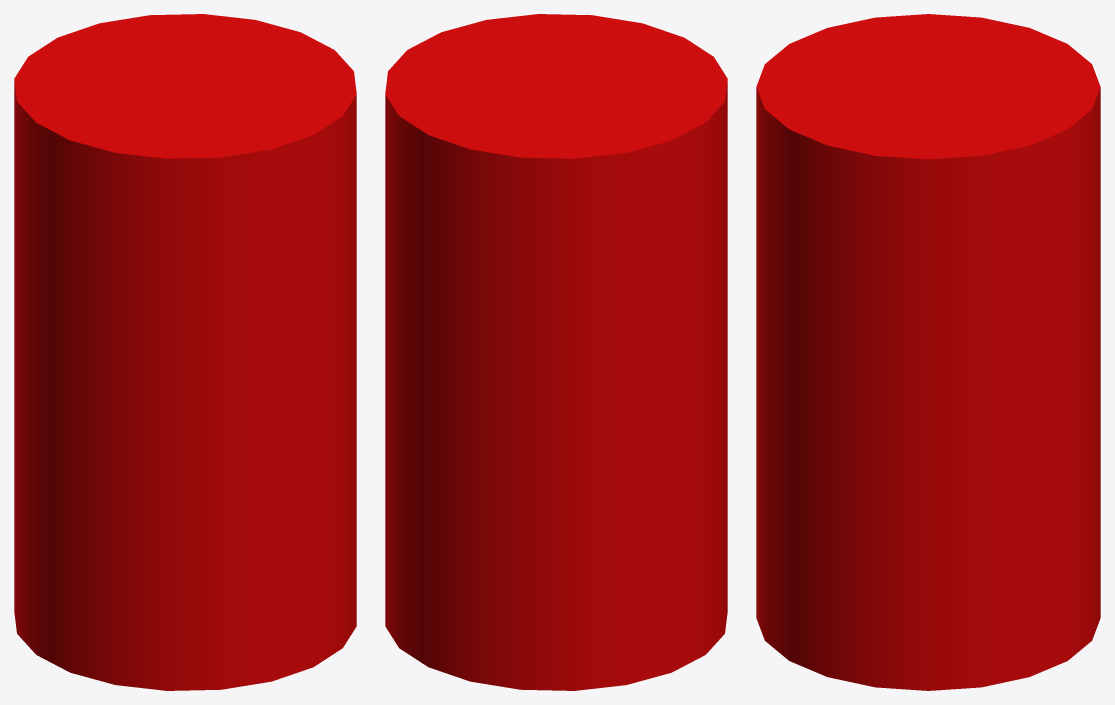
Rendered from Pole.fbx.
The picture shows the model from 3 angles, left to right: view 1: azimuth 30°, elevation 25°; view 2: azimuth 150°, elevation 25°; view 3: azimuth 270°, elevation 25°; orthographic projection.
Visible parts, largest first — view 1: pCylinder2; view 2: pCylinder2; view 3: pCylinder2.
Boxes of the visible parts, bbox=[...] form: pCylinder2: bbox=[14, 14, 356, 690]; pCylinder2: bbox=[385, 14, 727, 690]; pCylinder2: bbox=[756, 14, 1100, 690].
Size of the model in its own units: 32.79 by 55.9 by 32.79.
